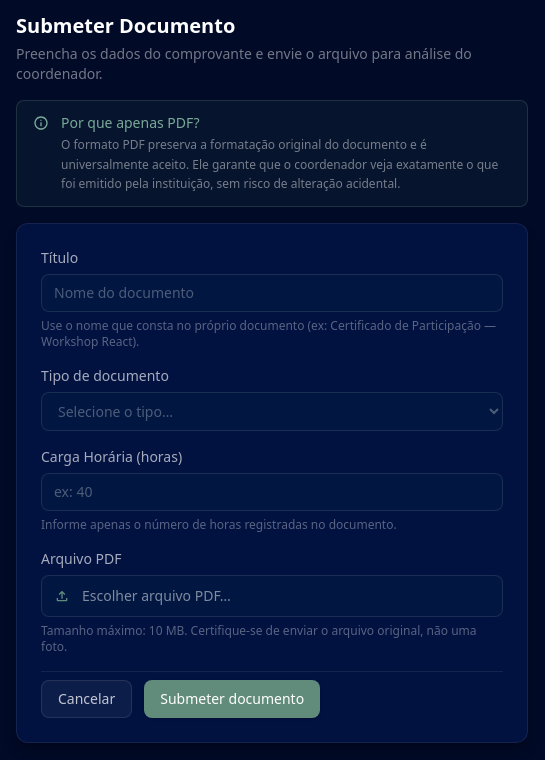
Test: SubmeterDocumento — validação de campos › exibe erro quando título tem menos de 3 caracteres
This screenshot has width=545, height=760.
Type "AB" into the field with placeholder "Nome do documento" at (272, 292), box [41,274,503,312]
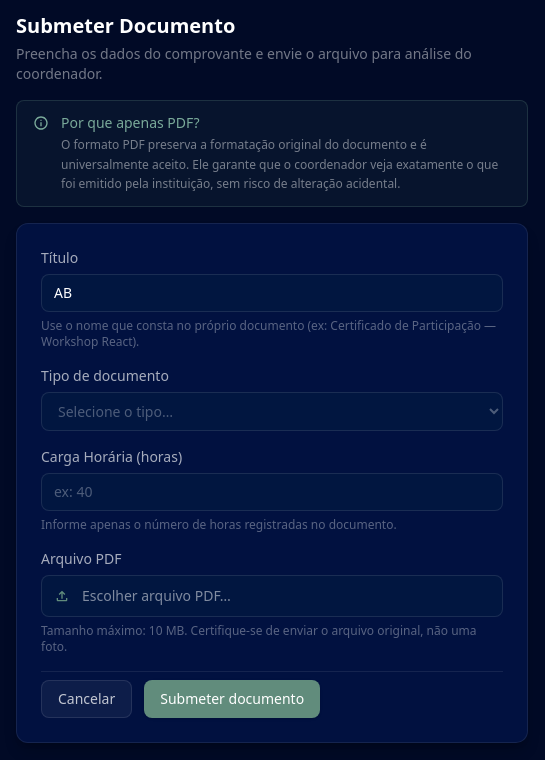
Click the button "Submeter documento" at (232, 698), box [144,680,320,718]
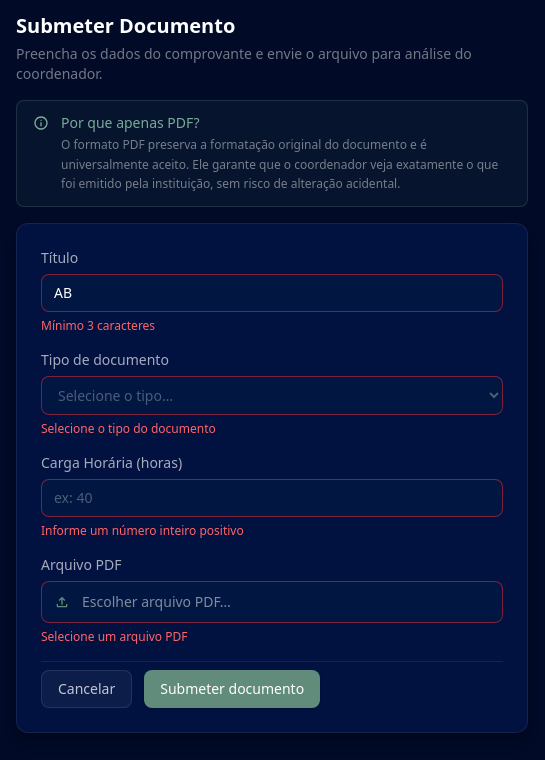
Expected: the text "Mínimo 3 caracteres" is shown, [41,316,155,334]
